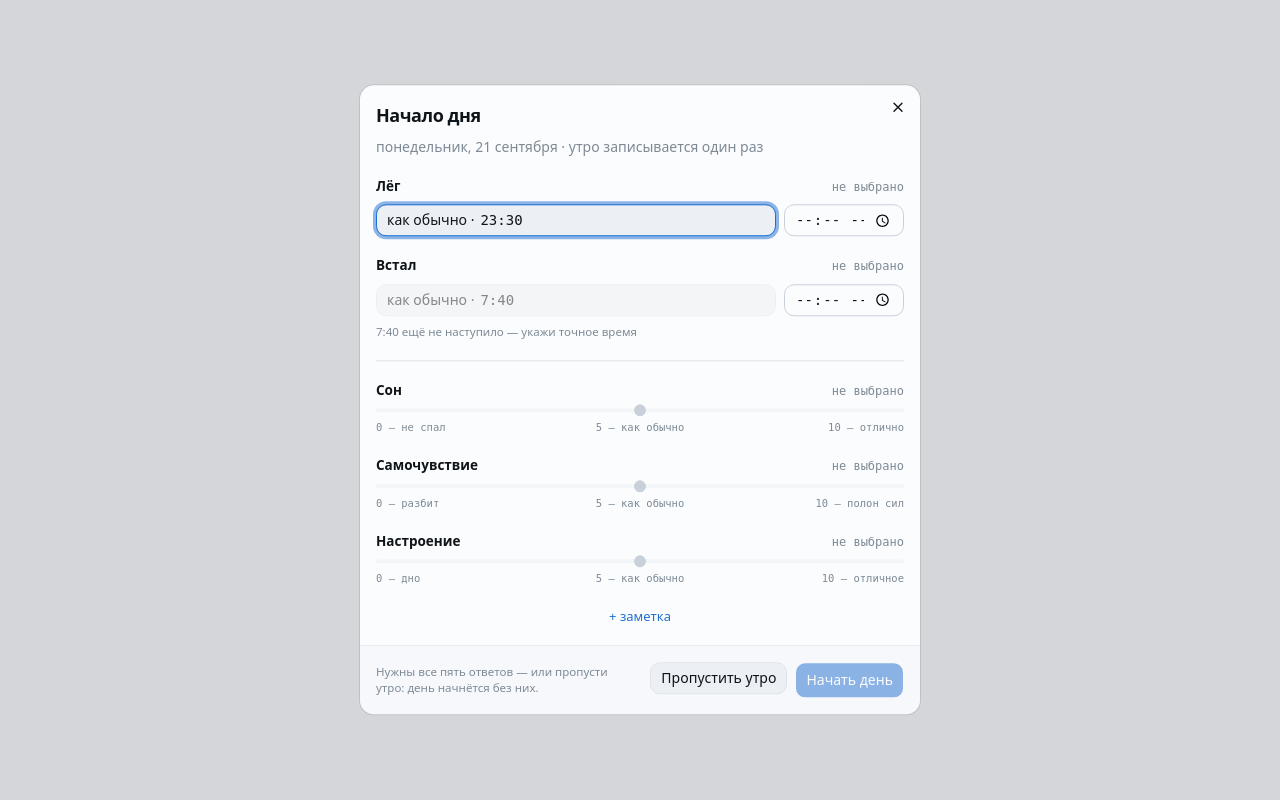
Test case: окно начала дня › обычный подъём ещё не наступил — кнопка выключена, поле в будущем не пускает
Expected: the text "7:40 ещё не наступило — укажи точное время" is shown, [376,324,637,339]
Click the button "как обычно · 23:30": (431,220) [376,205,776,237]
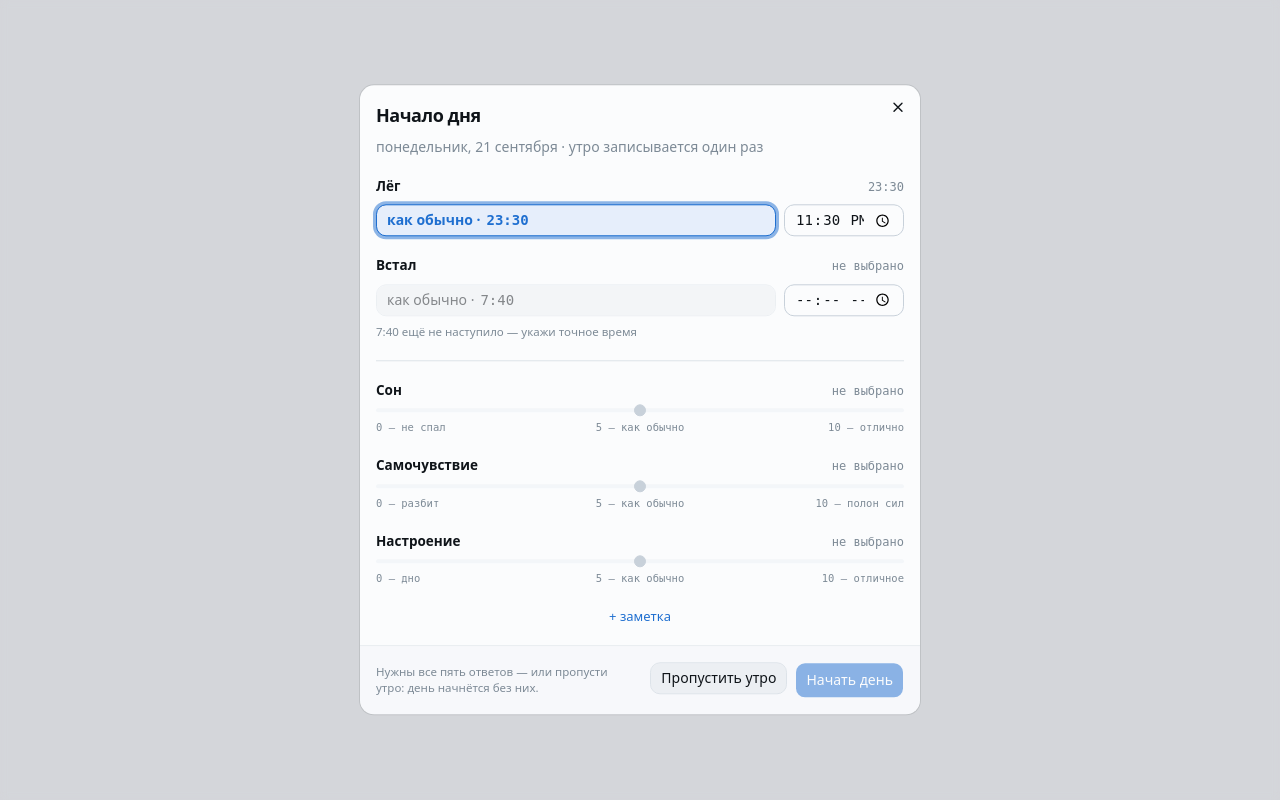
In the time field named "Встал, точное время": (844,300) [784,284,904,316], type "08:00"
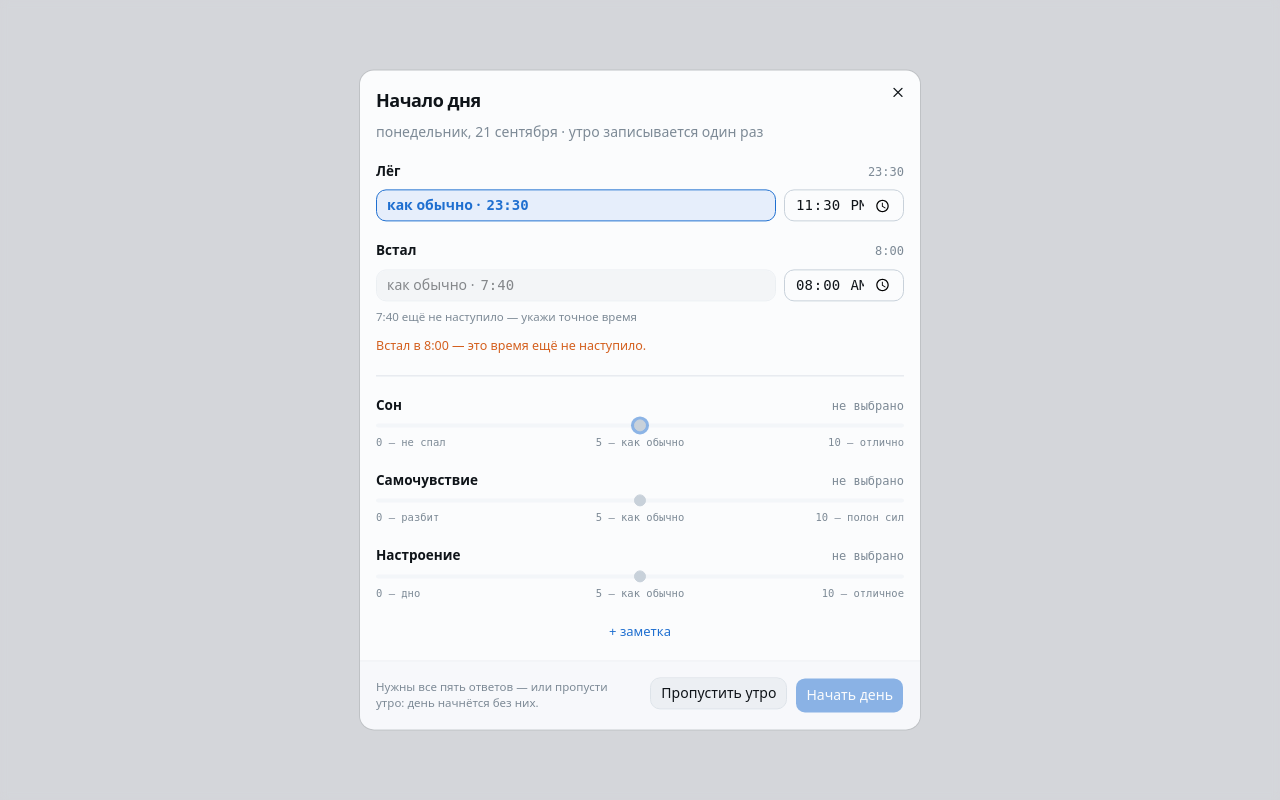
Press Arrowright
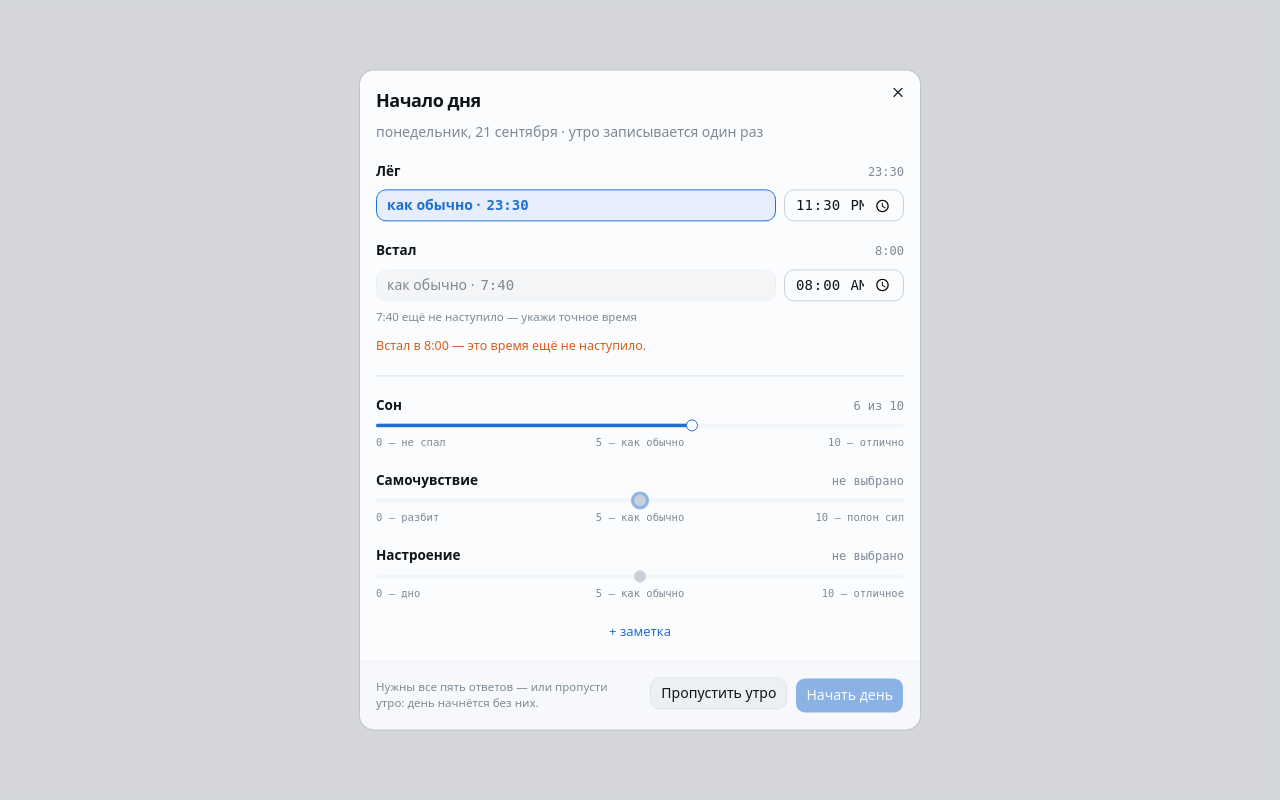
Press Arrowright
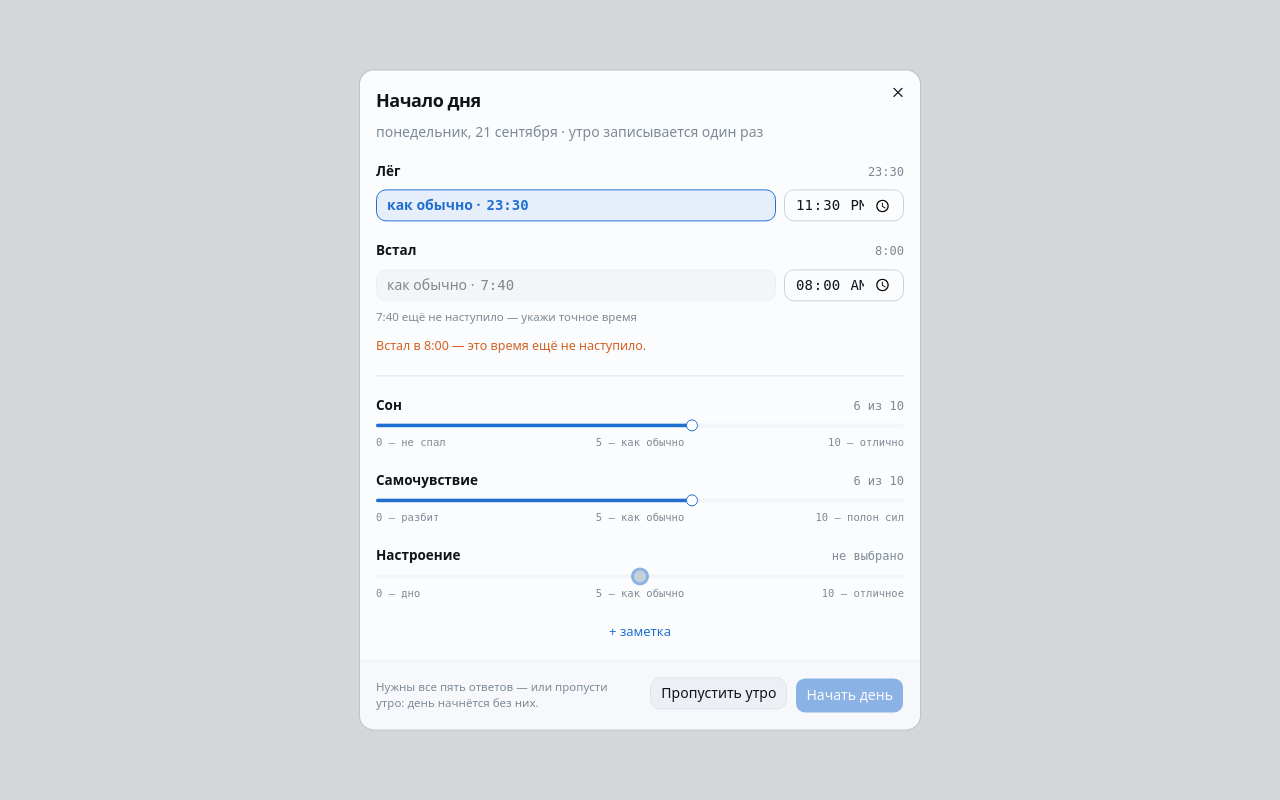
Press Arrowright
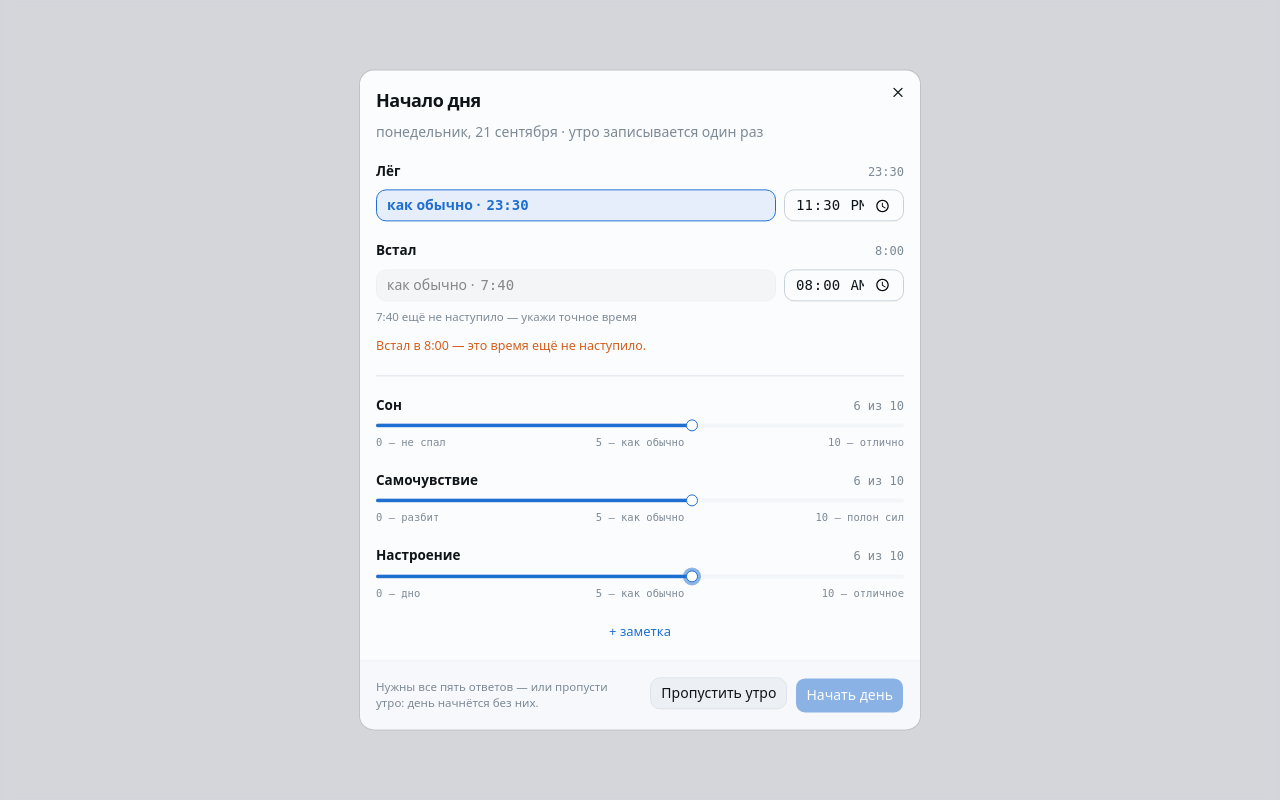
Expected: the button "Начать день" is disabled, [795,678,904,714]
Expected: the message shows "ещё не наступило", [376,337,646,354]
Replace the text in the time field named "Встал, точное время" with "07:05": (844,285) [784,269,904,301]
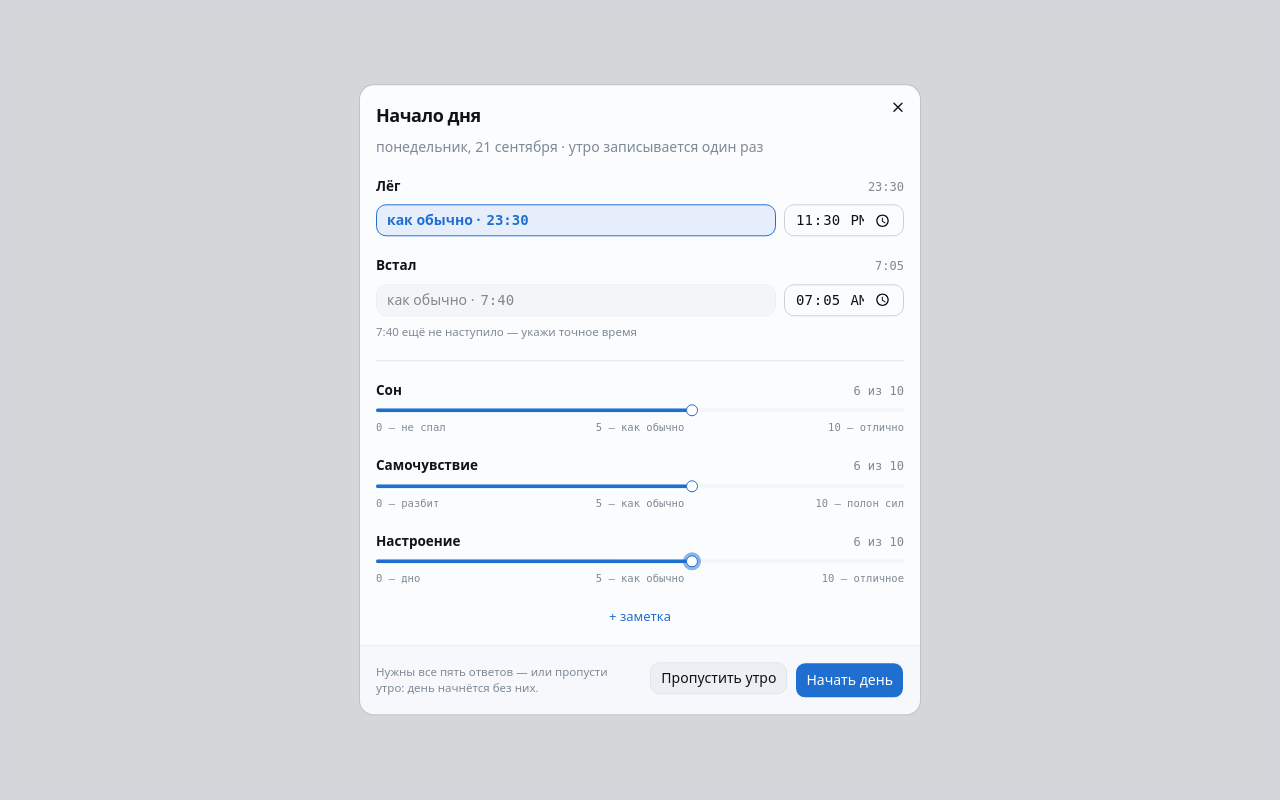
Expected: the message "Встал в 8:00 — это время ещё не наступило." is gone
Expected: the button "Начать день" is enabled, [795,663,904,699]
